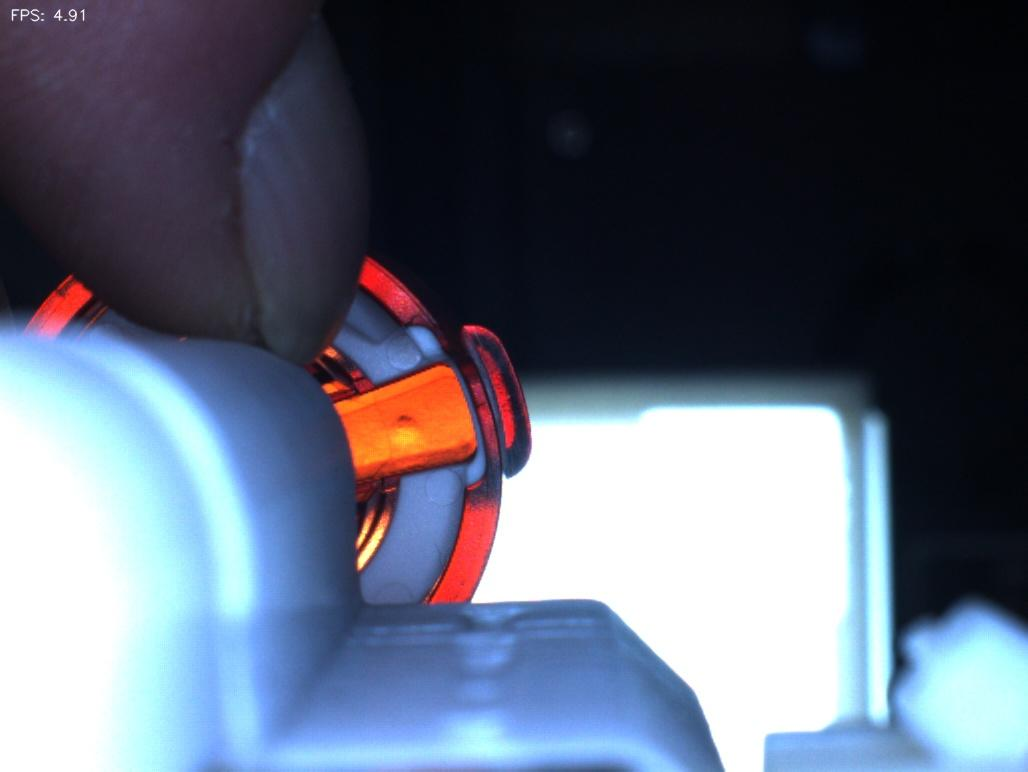Retassure: (365, 394, 445, 470)
